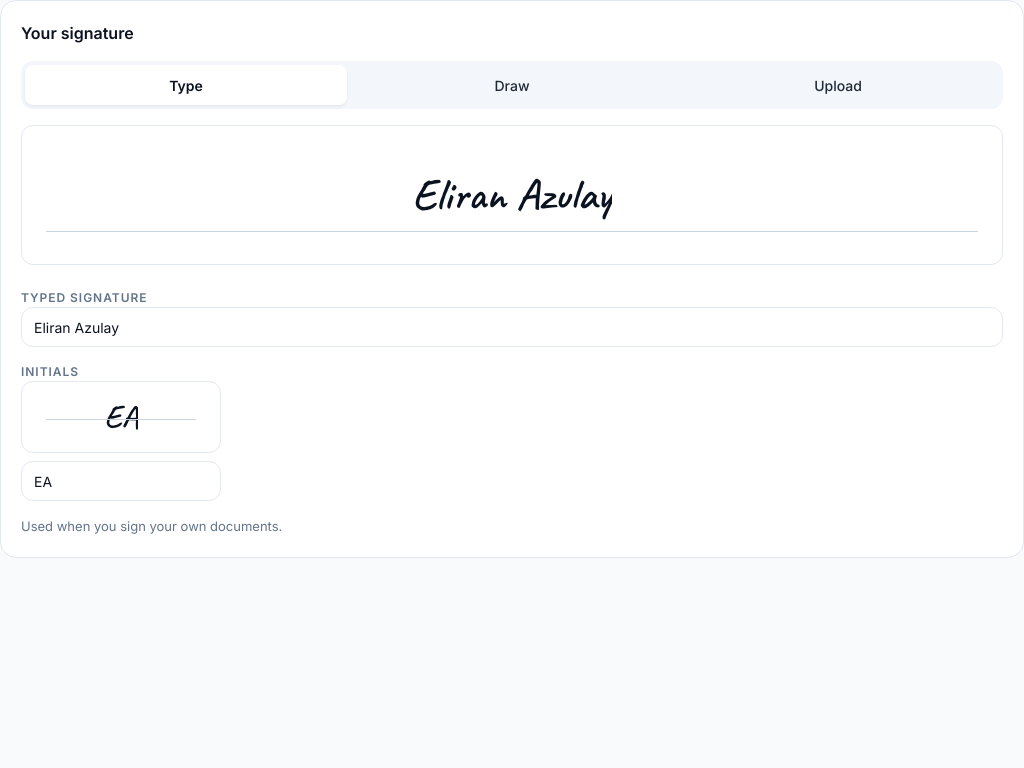
Test: SignatureSection › Draw shows a pad with Clear, and Save waits for a drawing
The width and height of the screenshot is (1024, 768).
Click the radio button labelled "Draw" at (512, 85), box [351,65,673,105]
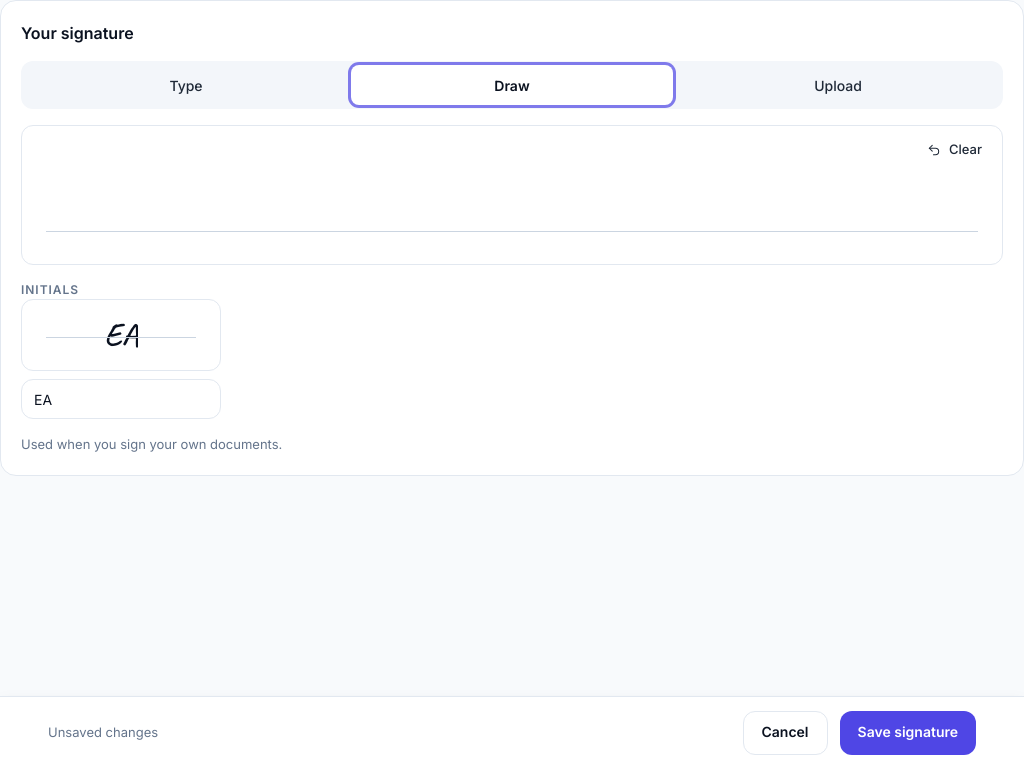
Now the picture named "signature pad" is shown, box [22,126,1002,264]
Now the button "Clear" is shown, box [915,134,994,166]
Click the button "Save signature" at (908, 732), box [840,710,976,754]
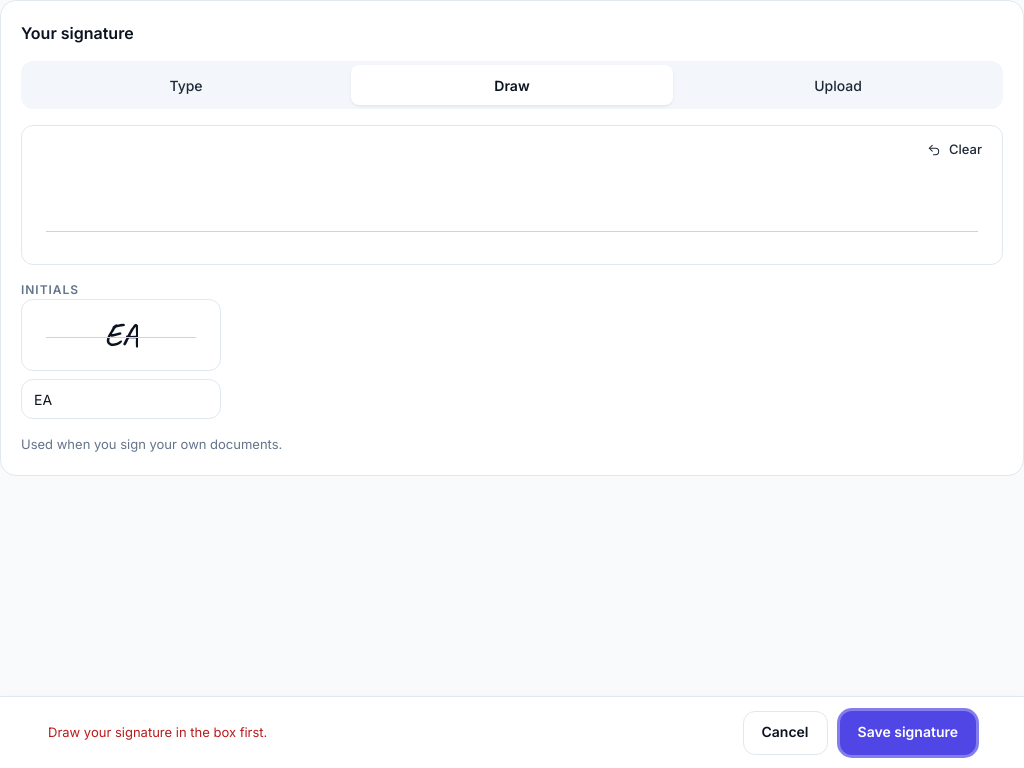
Now the message reads "Draw your signature in the box first.", box [48,724,267,740]
